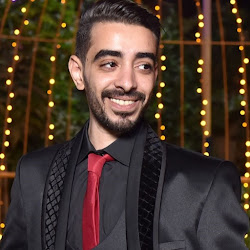young: (71, 5, 166, 129)
